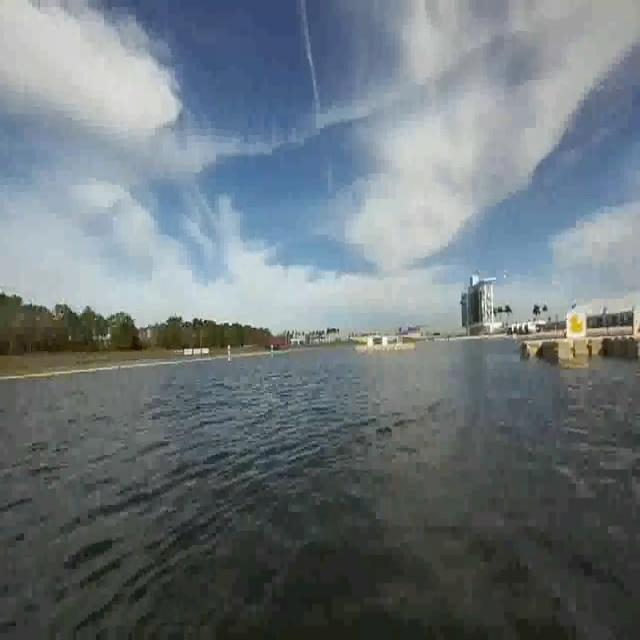yellow-duck: (566, 304, 586, 341)
